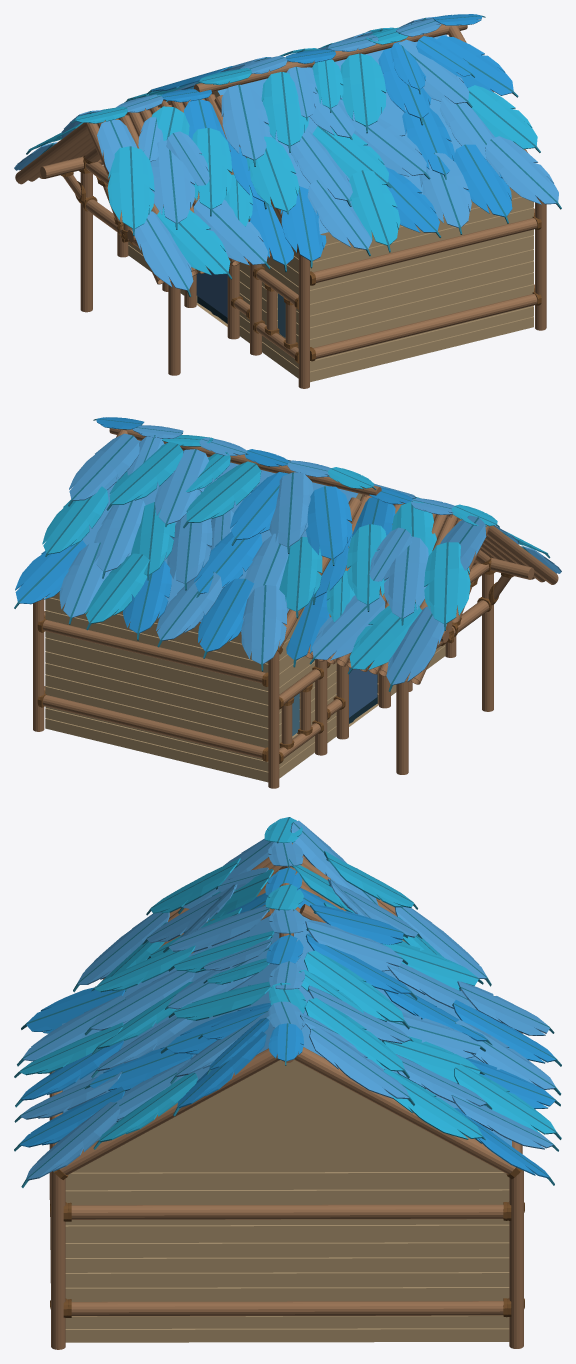
File: Casa01.gltf
3 views of the same model, one above another, from view 1: azimuth 30°, elevation 25°; view 2: azimuth 150°, elevation 25°; view 3: azimuth 270°, elevation 25° (orthographic). The views are drawn at different scales.
Parts seen in each view (by area): view 1: Casa Praia 1.001; view 2: Casa Praia 1.001; view 3: Casa Praia 1.001.
Part boxes in pixels (<box>): Casa Praia 1.001: <box>14,14,561,388</box>; Casa Praia 1.001: <box>14,417,561,788</box>; Casa Praia 1.001: <box>14,817,561,1349</box>.
Size of the model in its own units: 1.74 by 0.987 by 1.56.
